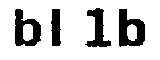1: (78, 4, 111, 50)
b: (116, 7, 150, 50), (10, 7, 43, 50)
l: (49, 7, 73, 46)
